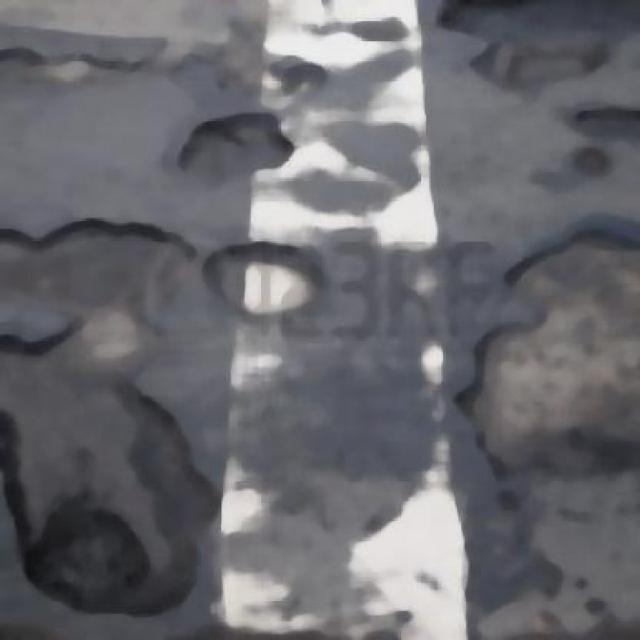Pothole: (0, 200, 211, 614), (462, 229, 638, 506), (439, 0, 638, 94), (214, 221, 306, 347), (192, 101, 300, 196)
